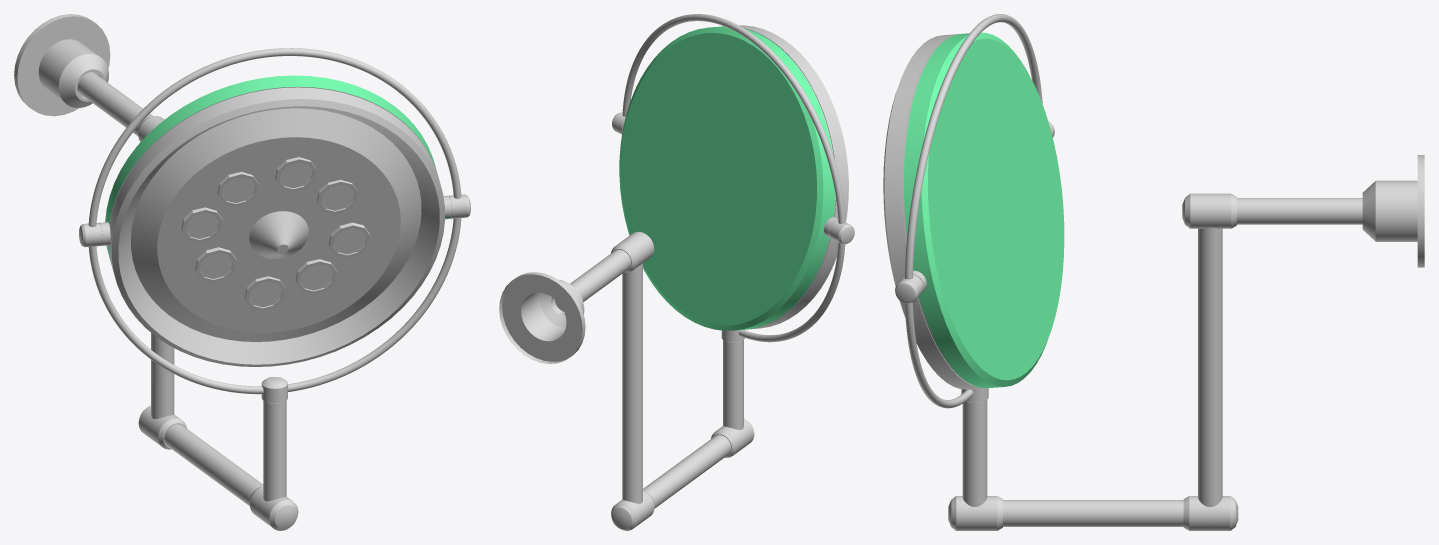
The picture shows the model from 3 angles, left to right: view 1: azimuth 30°, elevation 25°; view 2: azimuth 150°, elevation 25°; view 3: azimuth 270°, elevation 25°; orthographic projection. The views are drawn at different scales.
Visible parts, largest first — view 1: SurgeryLamp; view 2: SurgeryLamp; view 3: SurgeryLamp.
Part boxes in pixels (bbox=[...]): SurgeryLamp: bbox=[14, 14, 470, 530]; SurgeryLamp: bbox=[499, 14, 854, 530]; SurgeryLamp: bbox=[883, 14, 1424, 530].
Size of the model in its own units: 114 by 159 by 156.
